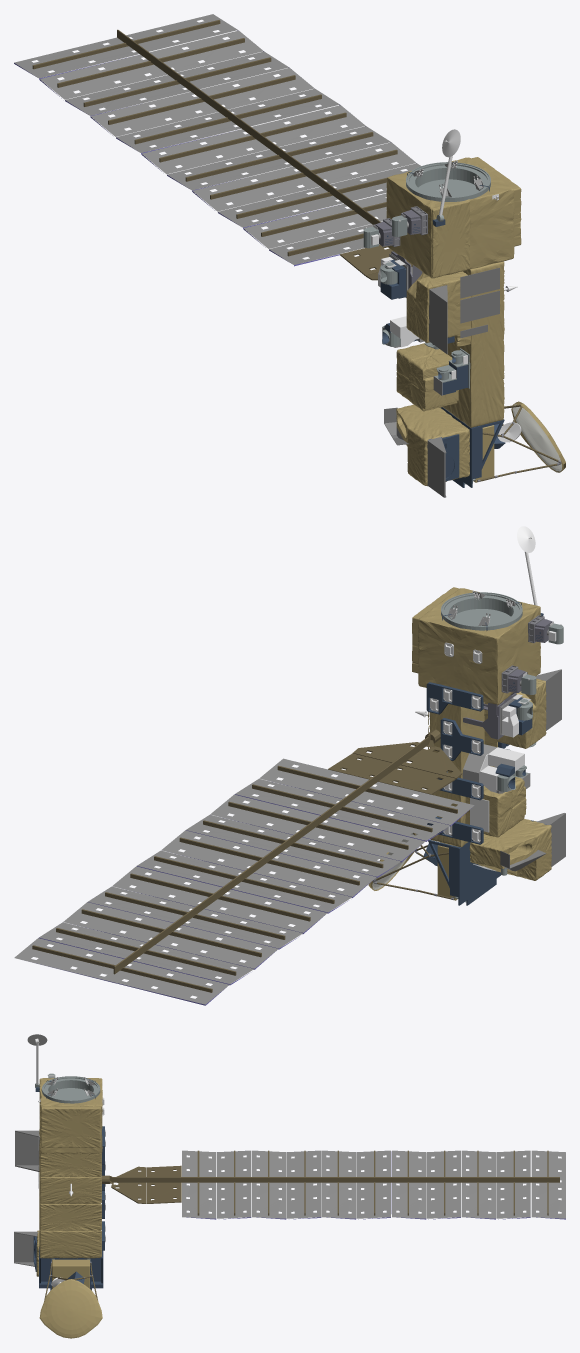
Rendered from aqua.glb.
The picture shows the model from 3 angles, top to bottom: view 1: azimuth 30°, elevation 25°; view 2: azimuth 150°, elevation 25°; view 3: azimuth 270°, elevation 25°; orthographic projection. The views are drawn at different scales.
Visible parts, largest first — view 1: Aqua_Reduced_v0014 [Aqua_Layered_02 [Layer2]], Aqua_Reduced_v0014 [Aqua_Layered_02 [Layer3]], Aqua_Reduced_v0014 [Aqua_Layered_02 [Layer22]], Aqua_Reduced_v0014 [Aqua_Layered_02 [(unnamed)]], Aqua_Reduced_v0014 [Aqua_Layered_02 [Layer10]], Aqua_Reduced_v0014 [Aqua_Layered_02 [Layer9]], Aqua_Reduced_v0014 [Aqua_Layered_02 [Layer19]], Aqua_Reduced_v0014 [Aqua_Layered_02 [Layer20]], Aqua_Reduced_v0014 [Aqua_Layered_02 [Layer21]], Aqua_Reduced_v0014 [Aqua_Layered_02 [Layer14]], Aqua_Reduced_v0014 [Aqua_Layered_02 [Layer18]], Aqua_Reduced_v0014 [Aqua_Layered_02 [Layer16]] (+4 smaller); view 2: Aqua_Reduced_v0014 [Aqua_Layered_02 [Layer2]], Aqua_Reduced_v0014 [Aqua_Layered_02 [Layer3]], Aqua_Reduced_v0014 [Aqua_Layered_02 [Layer22]], Aqua_Reduced_v0014 [Aqua_Layered_02 [Layer9]], Aqua_Reduced_v0014 [Aqua_Layered_02 [Layer10]], Aqua_Reduced_v0014 [Aqua_Layered_02 [Layer19]], Aqua_Reduced_v0014 [Aqua_Layered_02 [Layer16]], Aqua_Reduced_v0014 [Aqua_Layered_02 [Layer4]], Aqua_Reduced_v0014 [Aqua_Layered_02 [Layer14]], Aqua_Reduced_v0014 [Aqua_Layered_02 [Layer17]], Aqua_Reduced_v0014 [Aqua_Layered_02 [(unnamed)]], Aqua_Reduced_v0014 [Aqua_Layered_02 [Layer20]] (+3 smaller); view 3: Aqua_Reduced_v0014 [Aqua_Layered_02 [Layer2]], Aqua_Reduced_v0014 [Aqua_Layered_02 [Layer23]], Aqua_Reduced_v0014 [Aqua_Layered_02 [Layer3]], Aqua_Reduced_v0014 [Aqua_Layered_02 [Layer22]], Aqua_Reduced_v0014 [Layer26], Aqua_Reduced_v0014 [Aqua_Layered_02 [Layer14]], Aqua_Reduced_v0014 [Aqua_Layered_02 [Layer9]], Aqua_Reduced_v0014 [Aqua_Layered_02 [Layer10]], Aqua_Reduced_v0014 [Layer24], Aqua_Reduced_v0014 [Aqua_Layered_02 [Layer16]], Aqua_Reduced_v0014 [Aqua_Layered_02 [(unnamed)]], Aqua_Reduced_v0014 [Aqua_Layered_02 [Layer4]].
Boxes of the visible parts, x1=… form: Aqua_Reduced_v0014 [Aqua_Layered_02 [Layer2]]: x1=14, y1=14, x2=421, y2=264; Aqua_Reduced_v0014 [Aqua_Layered_02 [Layer3]]: x1=32, y1=20, x2=422, y2=280; Aqua_Reduced_v0014 [Aqua_Layered_02 [Layer22]]: x1=386, y1=157, x2=521, y2=278; Aqua_Reduced_v0014 [Aqua_Layered_02 [(unnamed)]]: x1=429, y1=262, x2=503, y2=427; Aqua_Reduced_v0014 [Aqua_Layered_02 [Layer10]]: x1=363, y1=162, x2=490, y2=484; Aqua_Reduced_v0014 [Aqua_Layered_02 [Layer9]]: x1=380, y1=172, x2=505, y2=487; Aqua_Reduced_v0014 [Aqua_Layered_02 [Layer19]]: x1=396, y1=404, x2=469, y2=486; Aqua_Reduced_v0014 [Aqua_Layered_02 [Layer20]]: x1=396, y1=343, x2=458, y2=411; Aqua_Reduced_v0014 [Aqua_Layered_02 [Layer21]]: x1=406, y1=271, x2=471, y2=346; Aqua_Reduced_v0014 [Aqua_Layered_02 [Layer14]]: x1=384, y1=285, x2=447, y2=497; Aqua_Reduced_v0014 [Aqua_Layered_02 [Layer18]]: x1=460, y1=267, x2=499, y2=338; Aqua_Reduced_v0014 [Aqua_Layered_02 [Layer16]]: x1=371, y1=129, x2=521, y2=442; Aqua_Reduced_v0014 [Aqua_Layered_02 [Layer2]]: x1=14, y1=758, x2=474, y2=1004; Aqua_Reduced_v0014 [Aqua_Layered_02 [Layer3]]: x1=32, y1=729, x2=461, y2=992; Aqua_Reduced_v0014 [Aqua_Layered_02 [Layer22]]: x1=412, y1=587, x2=540, y2=704; Aqua_Reduced_v0014 [Aqua_Layered_02 [Layer9]]: x1=423, y1=602, x2=546, y2=905; Aqua_Reduced_v0014 [Aqua_Layered_02 [Layer10]]: x1=441, y1=592, x2=563, y2=901; Aqua_Reduced_v0014 [Aqua_Layered_02 [Layer19]]: x1=469, y1=819, x2=551, y2=880; Aqua_Reduced_v0014 [Aqua_Layered_02 [Layer16]]: x1=415, y1=526, x2=556, y2=842; Aqua_Reduced_v0014 [Aqua_Layered_02 [Layer4]]: x1=36, y1=783, x2=471, y2=1005; Aqua_Reduced_v0014 [Aqua_Layered_02 [Layer14]]: x1=500, y1=669, x2=565, y2=871; Aqua_Reduced_v0014 [Aqua_Layered_02 [Layer17]]: x1=430, y1=621, x2=561, y2=871; Aqua_Reduced_v0014 [Aqua_Layered_02 [(unnamed)]]: x1=430, y1=702, x2=494, y2=847; Aqua_Reduced_v0014 [Aqua_Layered_02 [Layer20]]: x1=465, y1=777, x2=526, y2=837; Aqua_Reduced_v0014 [Aqua_Layered_02 [Layer2]]: x1=182, y1=1150, x2=565, y2=1218; Aqua_Reduced_v0014 [Aqua_Layered_02 [Layer23]]: x1=40, y1=1150, x2=101, y2=1257; Aqua_Reduced_v0014 [Aqua_Layered_02 [Layer3]]: x1=101, y1=1150, x2=559, y2=1215; Aqua_Reduced_v0014 [Aqua_Layered_02 [Layer22]]: x1=39, y1=1078, x2=102, y2=1153; Aqua_Reduced_v0014 [Layer26]: x1=39, y1=1279, x2=102, y2=1338; Aqua_Reduced_v0014 [Aqua_Layered_02 [Layer14]]: x1=14, y1=1130, x2=39, y2=1266; Aqua_Reduced_v0014 [Aqua_Layered_02 [Layer9]]: x1=33, y1=1080, x2=104, y2=1290; Aqua_Reduced_v0014 [Aqua_Layered_02 [Layer10]]: x1=35, y1=1073, x2=100, y2=1261; Aqua_Reduced_v0014 [Layer24]: x1=52, y1=1259, x2=89, y2=1288; Aqua_Reduced_v0014 [Aqua_Layered_02 [Layer16]]: x1=27, y1=1034, x2=88, y2=1287; Aqua_Reduced_v0014 [Aqua_Layered_02 [(unnamed)]]: x1=39, y1=1139, x2=100, y2=1258; Aqua_Reduced_v0014 [Aqua_Layered_02 [Layer4]]: x1=186, y1=1151, x2=565, y2=1219.
Bounding box in the file's own units: 124 × 230 × 434.
